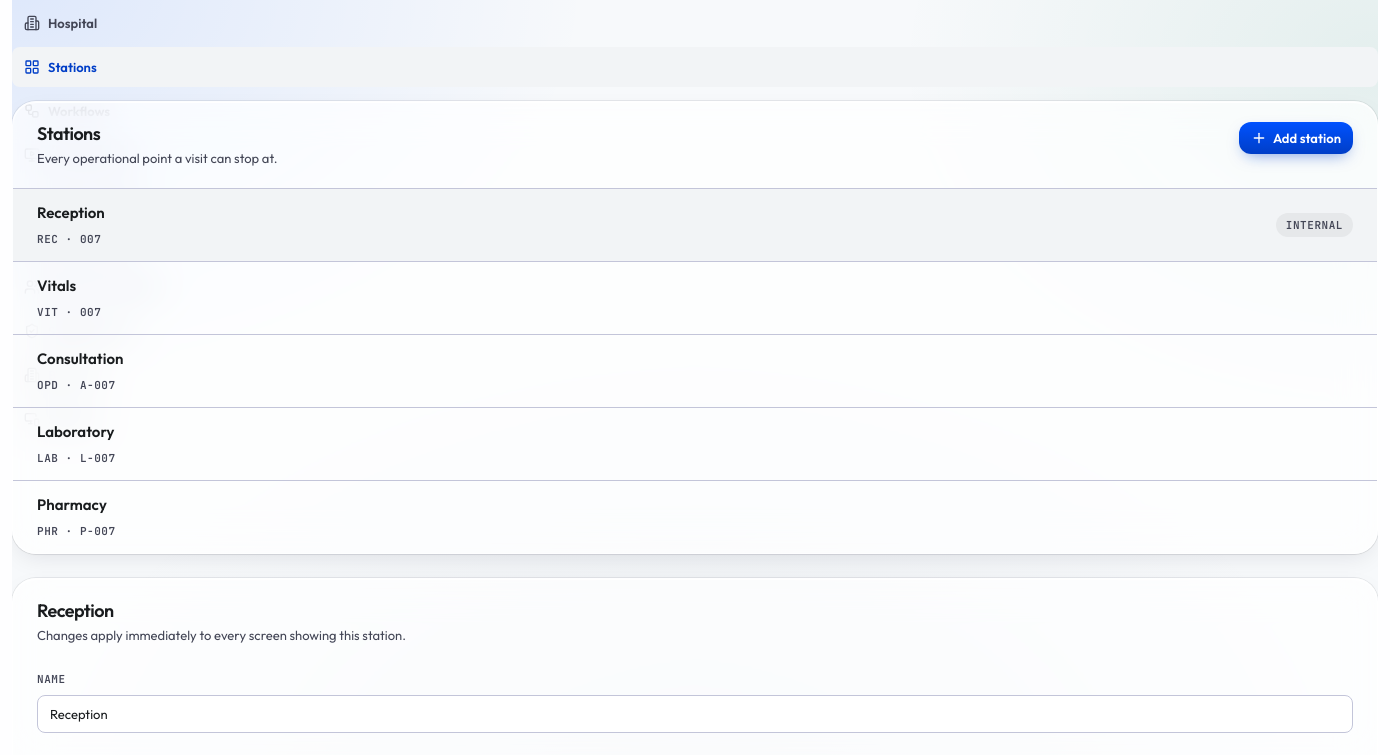
Test: Administration Portal › refuses a template that would issue every patient the same ticket
(page scrolled)
Click the button "Consultation OPD · A-007". click: point(80, 358)
box: x1=13 y1=335 x2=1377 y2=407
(page scrolled)
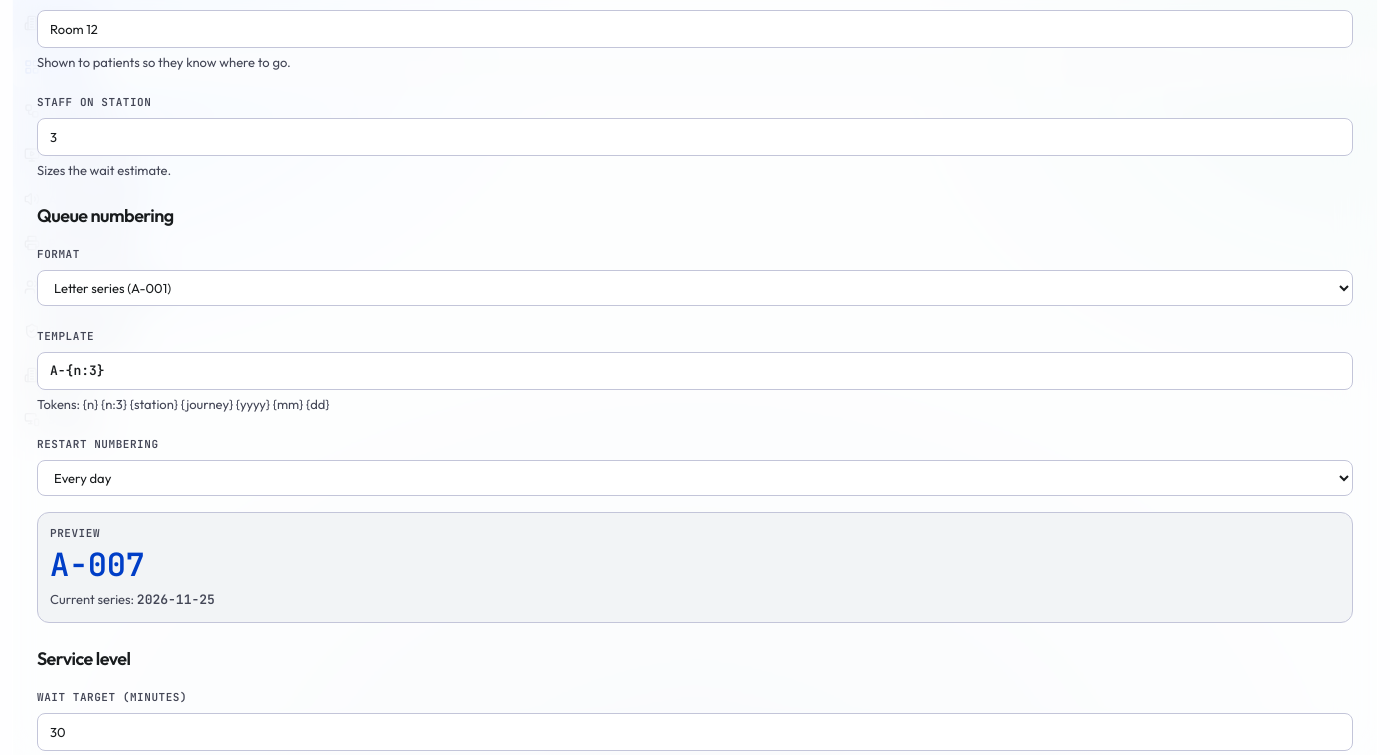
Replace the text in the field showing "A-{n:3}" with "OPD". click: point(695, 371)
box: x1=37 y1=352 x2=1353 y2=390
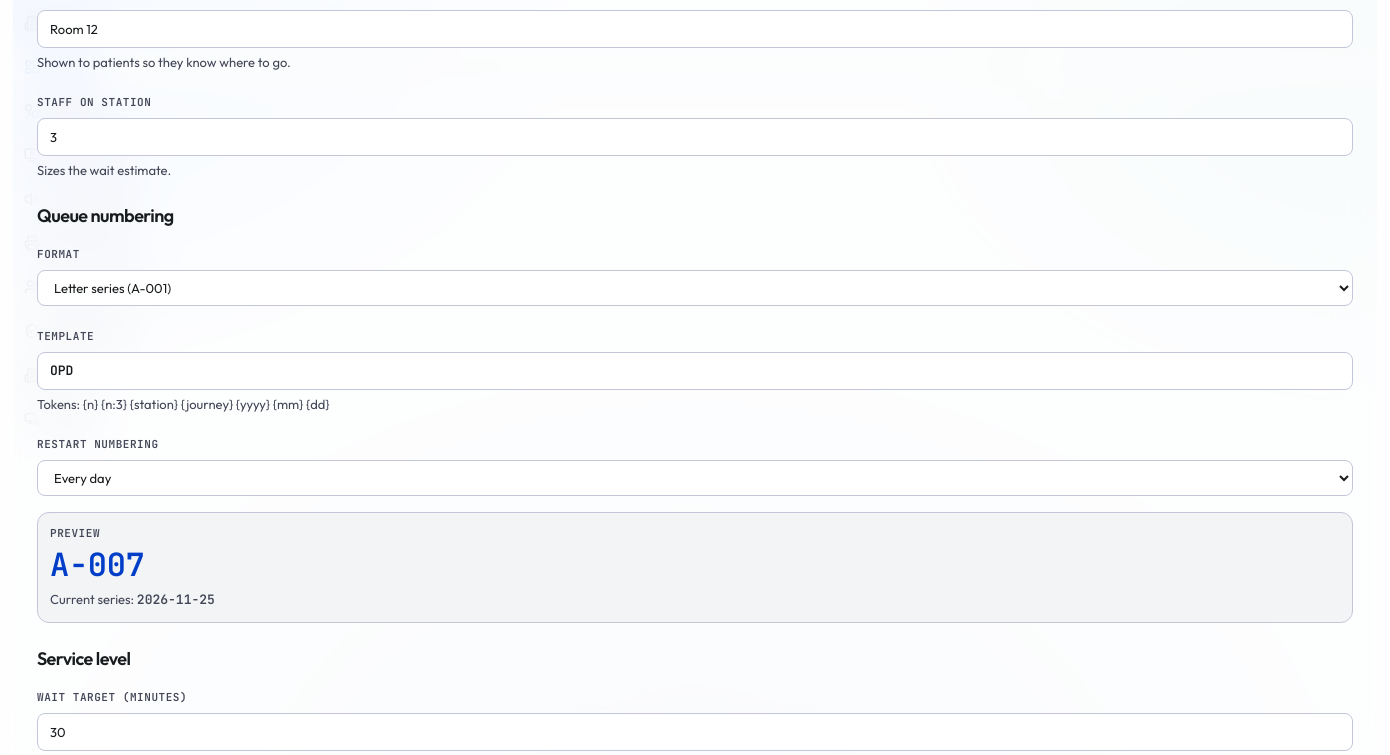
Leave the field showing "A-{n:3}", box x1=37 y1=352 x2=1353 y2=390
(page scrolled)
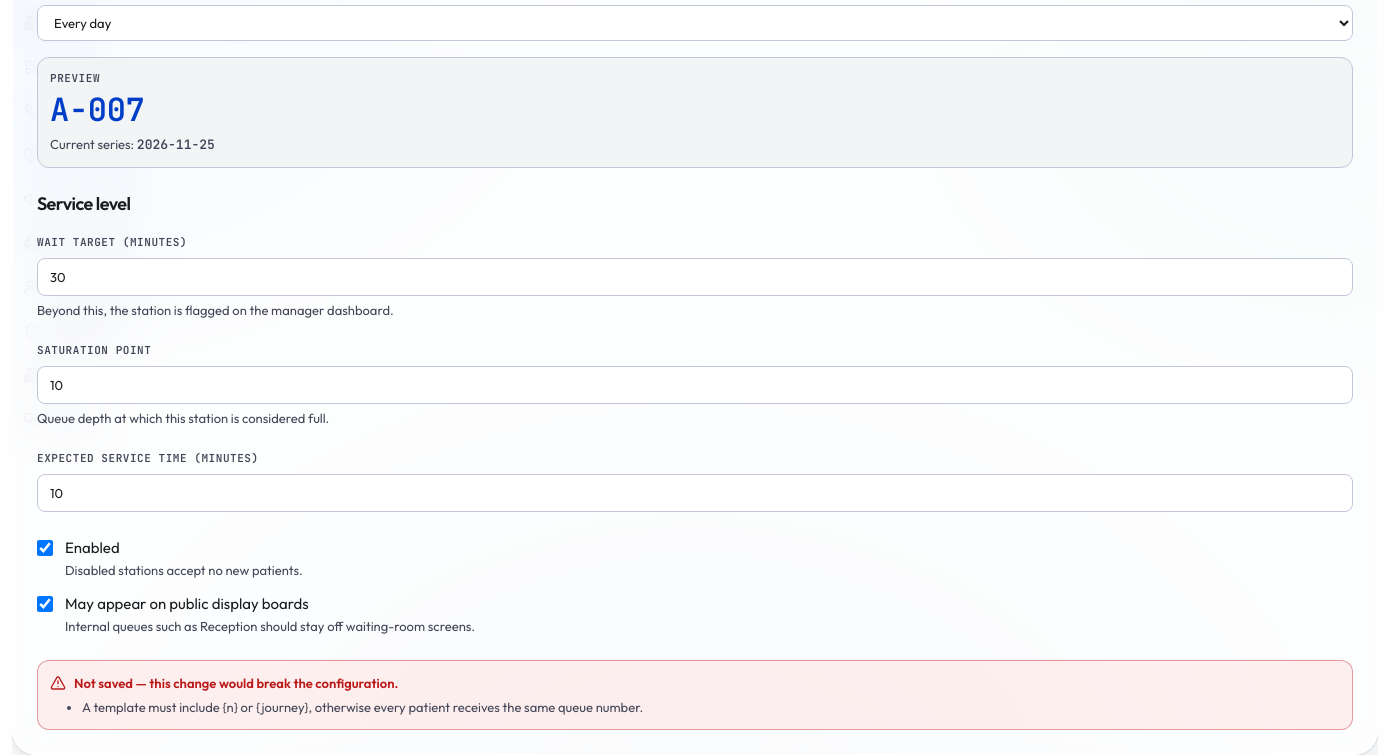
Check: the message is shown, box x1=37 y1=660 x2=1353 y2=730
Check: the message shows "Not saved", box x1=74 y1=675 x2=398 y2=691
